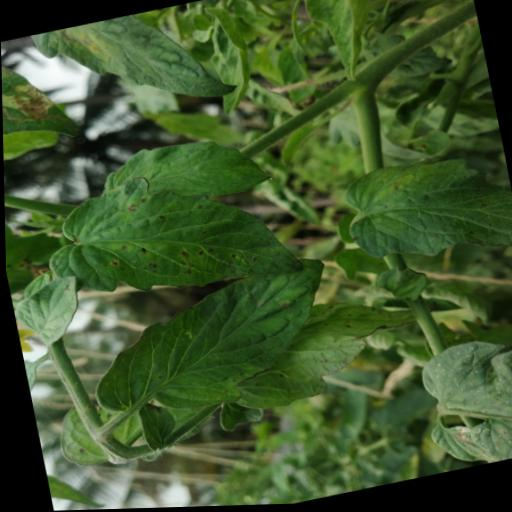Early Blight: (31, 153, 299, 320), (335, 138, 512, 281)
